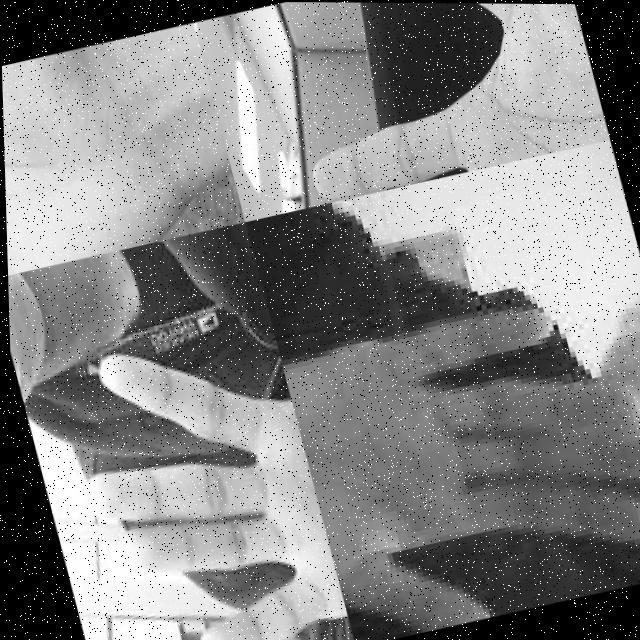hand: (271, 258, 640, 640), (44, 299, 348, 640), (257, 1, 610, 209), (1, 34, 188, 280)
